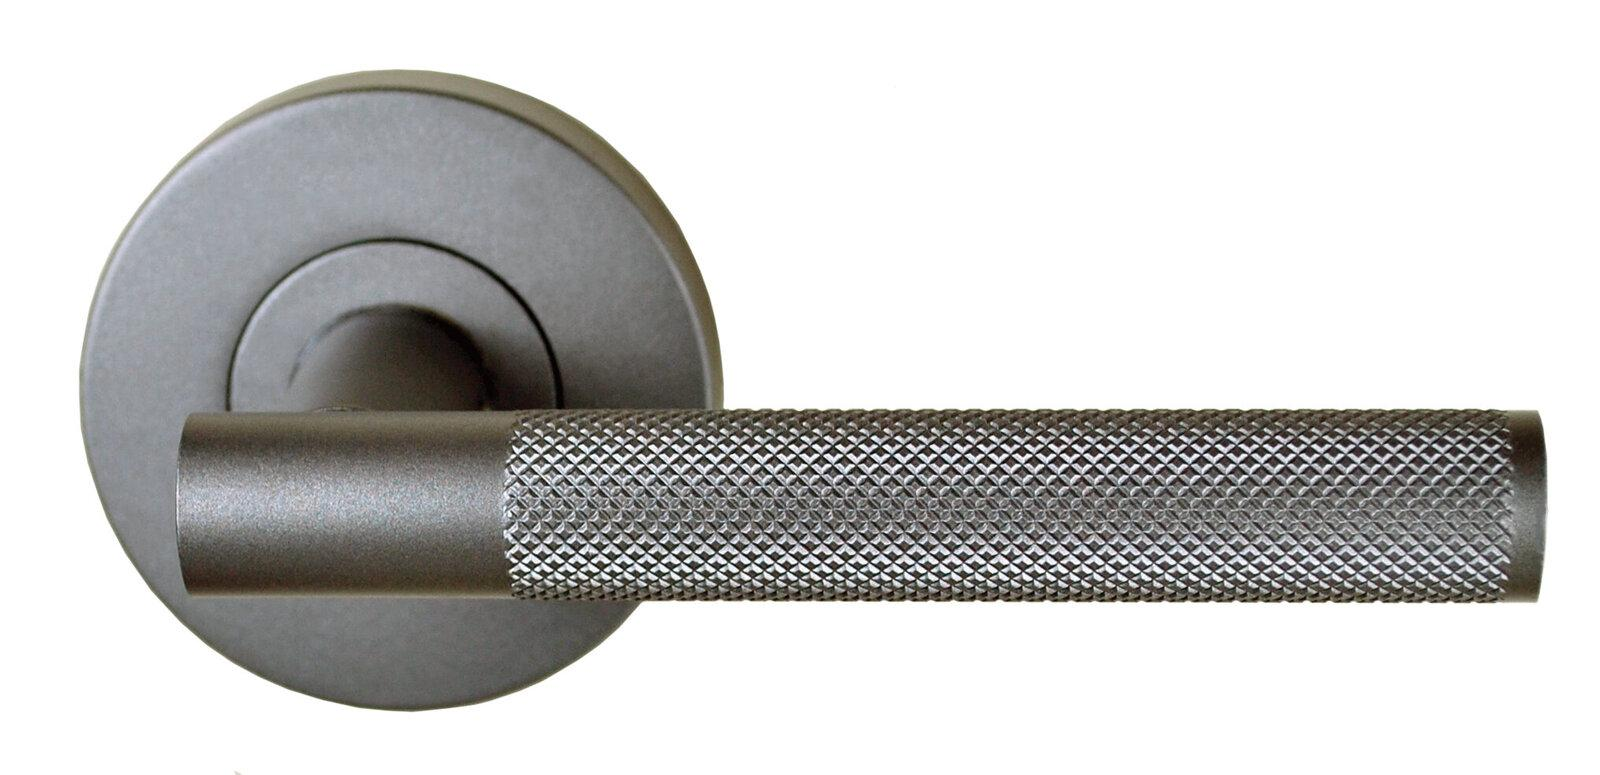doorhandle: (136, 352, 1581, 679)
